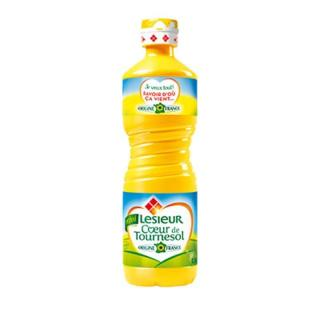Plastic-bottle: (119, 14, 203, 292)
